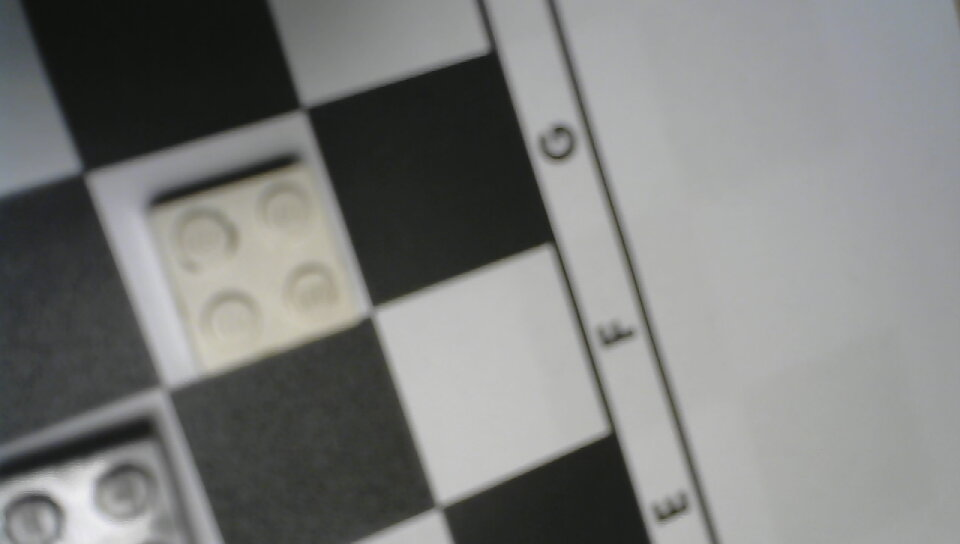wp: (132, 145, 374, 381)
